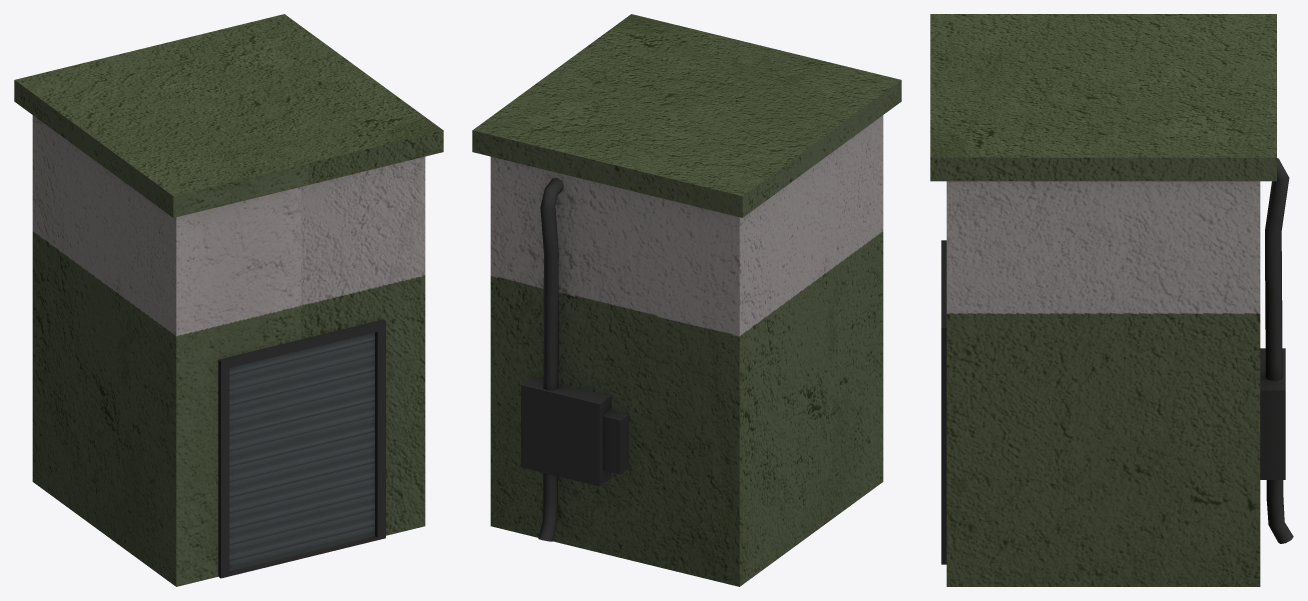
The model's file is Block3.fbx.
3 views of the same model, side by side, from view 1: azimuth 30°, elevation 25°; view 2: azimuth 150°, elevation 25°; view 3: azimuth 270°, elevation 25° (orthographic). The views are drawn at different scales.
Parts seen in each view (by area): view 1: Cube.001; view 2: Cube.001; view 3: Cube.001.
Part boxes in pixels (left/top/right/bottom): Cube.001: left=14, top=14, right=443, bottom=586; Cube.001: left=472, top=14, right=901, bottom=586; Cube.001: left=930, top=14, right=1293, bottom=586.
Size of the model in its own units: 1203 by 1697 by 1286.
